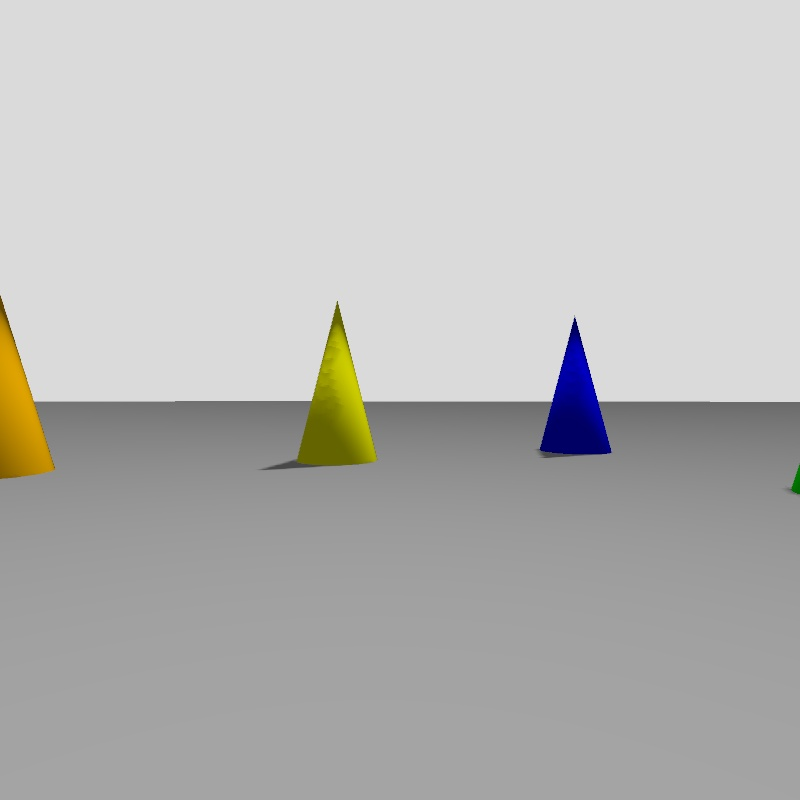Blue_cone: (540, 319, 611, 452)
Green_cone: (791, 466, 799, 493)
Orange_cone: (0, 298, 54, 478)
Yellow_cone: (298, 302, 376, 465)
